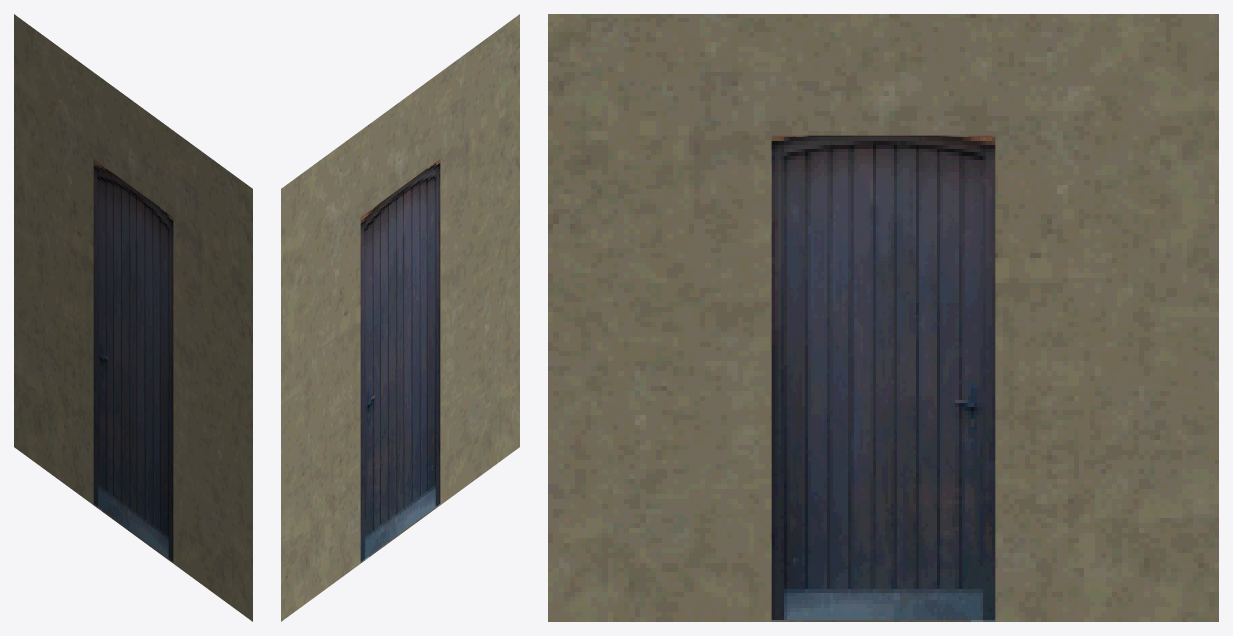
File: stuco_wall_door.glb
3 renders of one model, left to right at view 1: azimuth 30°, elevation 25°; view 2: azimuth 150°, elevation 25°; view 3: azimuth 270°, elevation 25°, orthographic. The views are drawn at different scales.
Visible parts, largest first — view 1: stuco_wall_door; view 2: stuco_wall_door; view 3: stuco_wall_door.
Boxes of the visible parts, x1=… form: stuco_wall_door: x1=14, y1=14, x2=252, y2=621; stuco_wall_door: x1=281, y1=14, x2=519, y2=621; stuco_wall_door: x1=548, y1=14, x2=1218, y2=621.
Size of the model in its own units: 0 by 3 by 3.
1 material, 1 textured.
